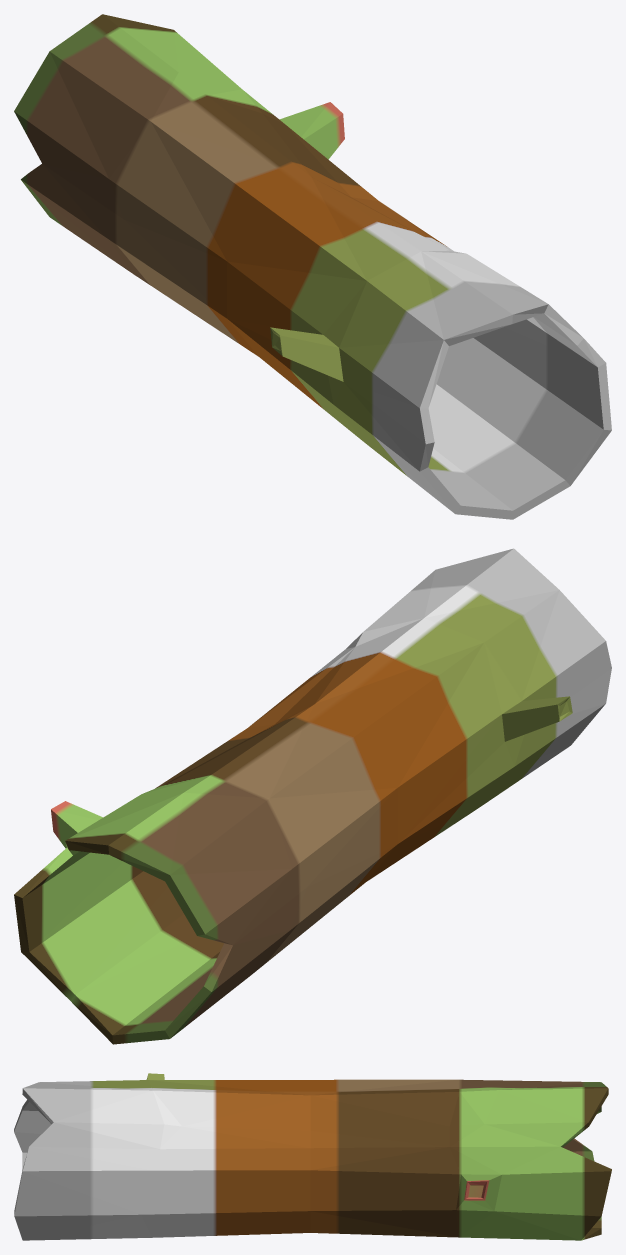
File: Stump_05.fbx
3 views of the same model, one above another, from view 1: azimuth 30°, elevation 25°; view 2: azimuth 150°, elevation 25°; view 3: azimuth 270°, elevation 25° (orthographic). The views are drawn at different scales.
Parts seen in each view (by area): view 1: Stump_05; view 2: Stump_05; view 3: Stump_05.
Boxes of the visible parts, x1=… form: Stump_05: x1=14, y1=14, x2=611, y2=519; Stump_05: x1=14, y1=548, x2=611, y2=1044; Stump_05: x1=14, y1=1073, x2=611, y2=1240.
Size of the model in its own units: 2.16 by 1.47 by 5.44.
